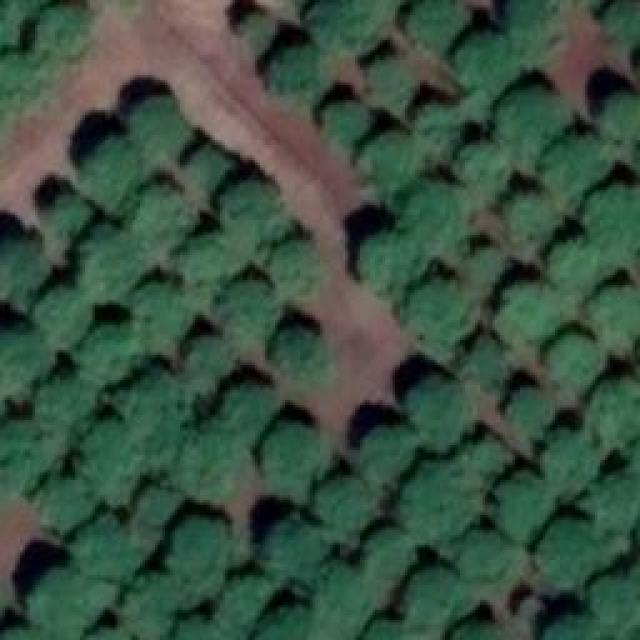Tree: (400, 377, 477, 447), (73, 515, 146, 586), (27, 568, 98, 640), (397, 460, 467, 533), (532, 520, 604, 590), (72, 420, 142, 491), (120, 365, 187, 437), (128, 278, 197, 346), (405, 278, 476, 344), (78, 225, 144, 295), (310, 473, 380, 539), (170, 517, 235, 588), (400, 180, 470, 245), (497, 80, 568, 144), (543, 135, 612, 200), (580, 375, 640, 449), (80, 135, 147, 201), (122, 180, 192, 243), (175, 430, 240, 496), (490, 465, 549, 537), (120, 577, 188, 639), (223, 178, 288, 242), (455, 33, 517, 100), (80, 323, 142, 389), (260, 425, 317, 495), (582, 182, 640, 250), (260, 515, 321, 578), (35, 375, 95, 439), (35, 473, 95, 537), (500, 278, 557, 345), (358, 233, 420, 294), (405, 100, 468, 160), (458, 525, 518, 588), (353, 132, 417, 191), (500, 190, 559, 254), (310, 565, 374, 624), (308, 0, 382, 51), (0, 420, 55, 488), (405, 565, 466, 626), (505, 0, 569, 58), (263, 40, 326, 98), (545, 235, 603, 298), (178, 233, 234, 298), (355, 523, 420, 579), (587, 277, 640, 344), (130, 95, 190, 154), (260, 230, 321, 288), (0, 328, 52, 396), (355, 425, 418, 481), (590, 570, 640, 640), (455, 140, 514, 199), (543, 428, 602, 487), (35, 285, 93, 345), (403, 0, 468, 49), (545, 332, 597, 391), (178, 338, 238, 388), (30, 0, 89, 50), (587, 475, 640, 530), (0, 240, 47, 302), (223, 383, 277, 436), (598, 93, 640, 160), (460, 334, 511, 388), (273, 326, 324, 378), (225, 280, 275, 333), (458, 433, 509, 483), (175, 148, 228, 196), (252, 607, 329, 640), (43, 193, 93, 243), (592, 0, 639, 52), (128, 480, 180, 526), (507, 384, 553, 436), (320, 98, 367, 148), (365, 60, 414, 106), (457, 243, 504, 290), (225, 573, 270, 622), (368, 610, 438, 640), (175, 607, 235, 640), (443, 608, 504, 640), (235, 8, 279, 48), (545, 613, 607, 640)
